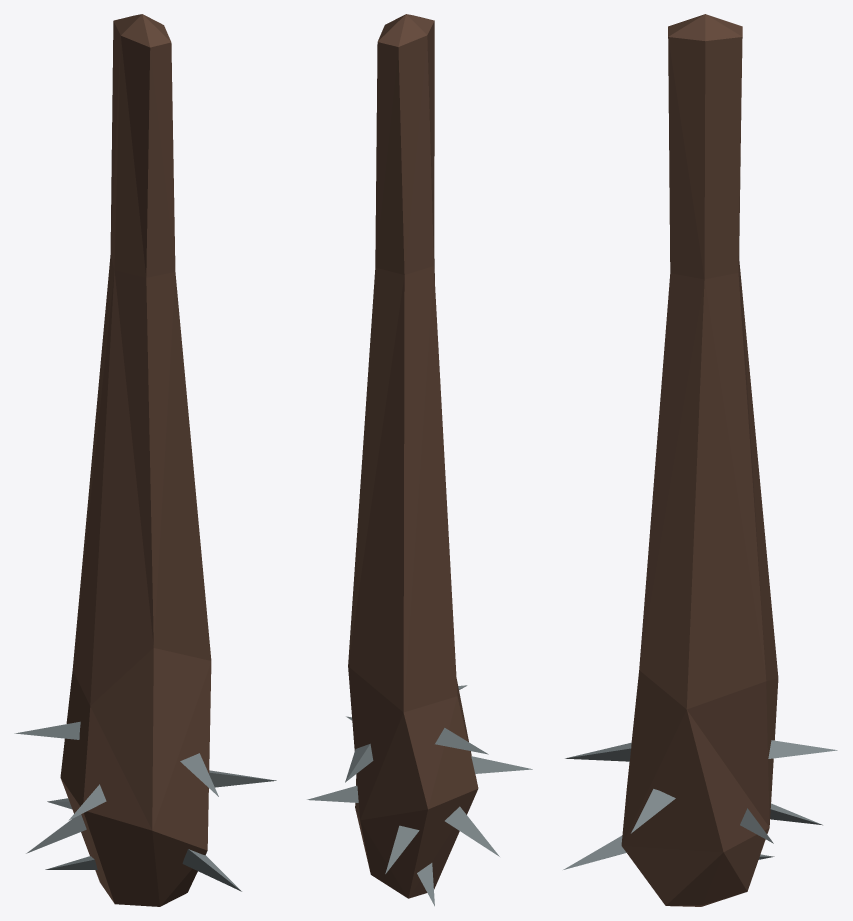
The model's file is PT_Medieval_Club_01.fbx.
3 views of the same model, side by side, from view 1: azimuth 30°, elevation 25°; view 2: azimuth 150°, elevation 25°; view 3: azimuth 270°, elevation 25° (orthographic). The views are drawn at different scales.
Visible parts, largest first — view 1: PT_Medieval_Club_01; view 2: PT_Medieval_Club_01; view 3: PT_Medieval_Club_01.
Part boxes in pixels (x1,y1,x2,y2): PT_Medieval_Club_01: (14,14,276,906); PT_Medieval_Club_01: (307,14,532,906); PT_Medieval_Club_01: (563,14,837,906).
Bounding box in the file's own units: 15.86 × 65.61 × 18.35.
